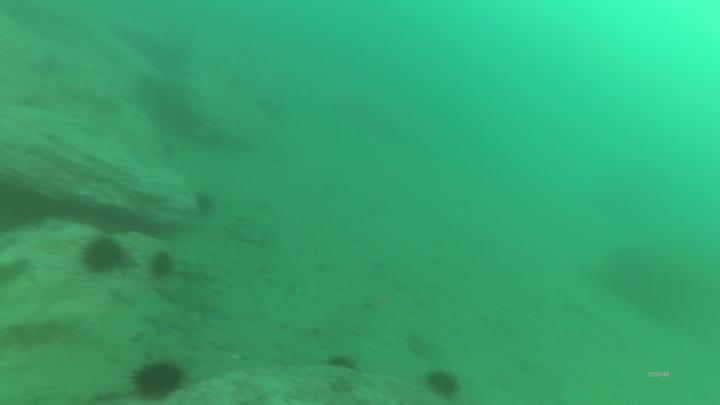echinus: (125, 358, 186, 401), (81, 234, 132, 279), (423, 370, 462, 401), (193, 192, 221, 218), (150, 251, 175, 280), (324, 353, 360, 372)
starfish: (145, 307, 187, 336), (176, 266, 210, 290), (152, 281, 181, 305)
